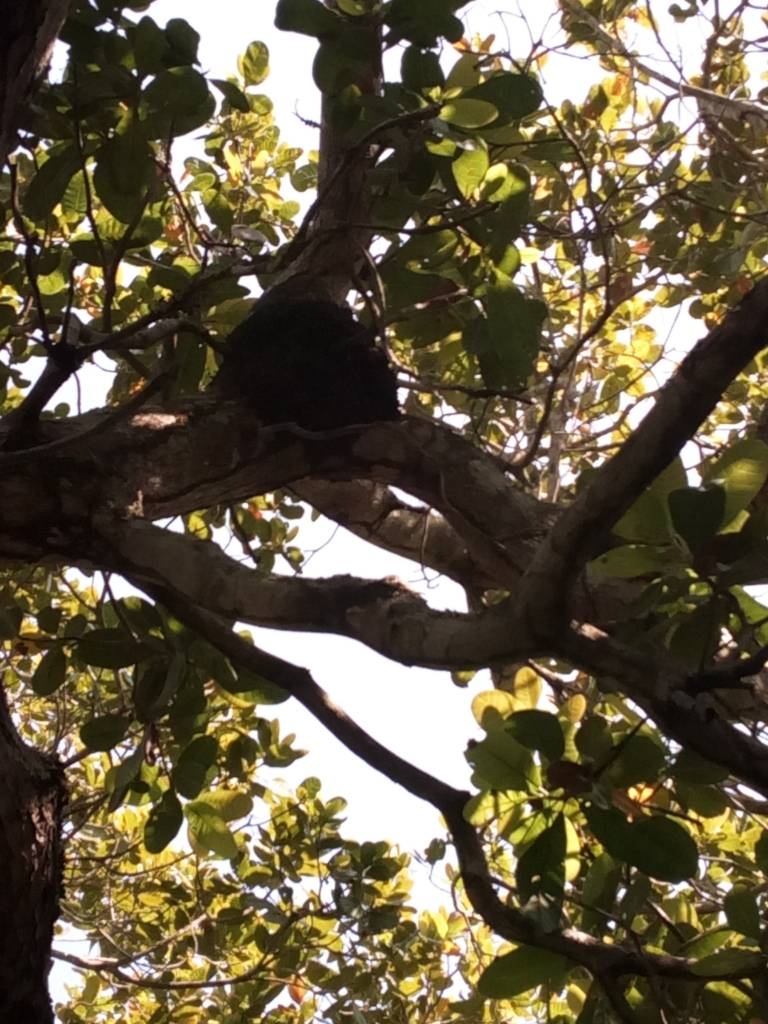Termites: (230, 302, 402, 433)
